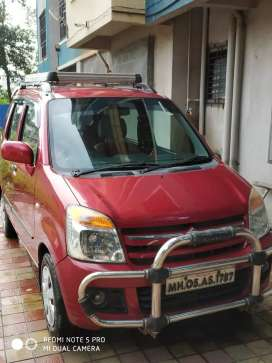license_plate: (167, 267, 233, 293)
